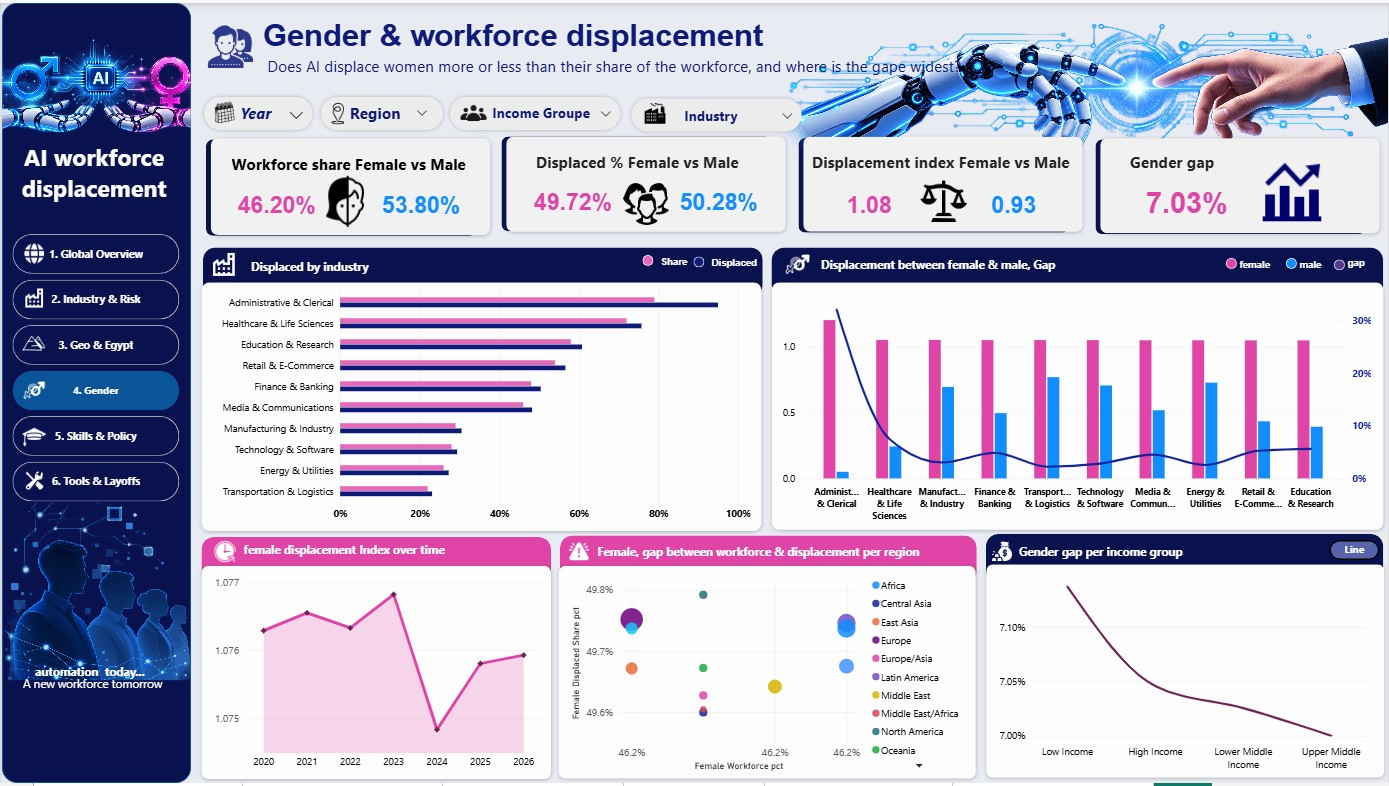

What the dashboard file says about the page in this screenshot:
{"tool":"powerbi","page":{"name":"4. Gender","canvas":[1920,1080],"ordinal":3},"visuals":[{"type":"shape","box":[282.6,188,374.6,133.3],"z":0},{"type":"shape","box":[692,185,374,131],"z":1000},{"type":"shape","box":[1102,186.1,374,131],"z":2000},{"type":"image","box":[1075.4,0,845.6,241.3],"z":3000},{"type":"shape","box":[1514,188.4,374,131],"z":4000},{"type":"shape","box":[0,0,261.7,1080],"z":5000},{"type":"textbox","box":[362.4,20.2,776.1,70.1],"z":6000},{"type":"shape","box":[274.4,124.4,161.1,56.7],"z":7000},{"type":"textbox","box":[367.7,73.5,981.2,46],"z":8000},{"type":"slicer","fields":{"Values":["year.year Hierarchy.year"]},"box":[295,132.5,133,44],"z":9000},{"type":"shape","box":[435.6,124.4,180,56.7],"z":10000},{"type":"image","box":[437.5,135,52.2,36.7],"z":11000},{"type":"slicer","fields":{"Values":["country.region"]},"box":[448.8,133.8,150,36.2],"z":12000},{"type":"shape","box":[615.6,124.4,246.7,56.7],"z":13000},{"type":"slicer","fields":{"Values":["country.income_group"]},"box":[656.7,135,196.7,36.7],"z":14000},{"type":"image","box":[627.5,133.8,51.1,36.7],"z":15000},{"type":"shape","box":[282,181.5,399.8,147.1],"z":16000},{"type":"textbox","box":[318.5,208,337,47.4],"z":17000},{"type":"image","box":[429.1,239.6,97.4,71.1],"z":18000},{"type":"shape","box":[691.7,179.2,399.8,144.8],"z":19000},{"type":"textbox","box":[739.7,205.3,310.6,34.2],"z":20000},{"type":"image","box":[860.8,242.2,65.8,68.4],"z":21000},{"type":"shape","box":[318.8,137.5,27.5,35],"z":22000},{"type":"cardVisual","fields":{"Data":["_Measures.Female Displaced Share pct","_Measures.Male Displaced Share pct"]},"box":[694,234.4,397.5,80.4],"z":23000},{"type":"image","box":[272.5,133.8,73.3,37.8],"z":24000},{"type":"textbox","box":[330,137.5,50,30],"z":25000},{"type":"shape","box":[680,137.5,25,35],"z":26000},{"type":"shape","box":[473.8,135,31.2,35],"z":27000},{"type":"textbox","box":[482.5,137.5,77.5,28.8],"z":28000},{"type":"textbox","box":[678.8,140,138.9,28.9],"z":29000},{"type":"shape","box":[1103,179.2,400,144.8],"z":30000},{"type":"textbox","box":[1121.5,205.3,400.1,29],"z":31000},{"type":"image","box":[1266.3,234.3,73.7,79],"z":32000},{"type":"cardVisual","fields":{"Data":["_Measures.Female Displacement Index","_Measures.Male Displacement Index"]},"box":[1105.7,236.9,392.3,84.2],"z":33000},{"type":"shape","box":[1514.3,181.5,400,144.8],"z":34000},{"type":"image","box":[1713.8,208,144.8,107.9],"z":35000},{"type":"cardVisual","fields":{"Data":["_Measures.Gender Gap pp"]},"box":[1543.2,234.7,195.2,83.1],"z":36000},{"type":"textbox","box":[1561.1,205.3,197.6,29.9],"z":37000},{"type":"shape","box":[278,338,775,68],"z":38000},{"type":"image","box":[284.9,342.4,45.7,40],"z":39000},{"type":"textbox","box":[344,354,348.6,31.4],"z":40000},{"type":"shape","box":[271,380,788,357.5],"z":41000},{"type":"shape","box":[1066,338,847,69],"z":42000},{"type":"image","box":[1079.3,343,43,37],"z":43000},{"type":"textbox","box":[1133.3,352,348.6,31.4],"z":44000},{"type":"shape","box":[1060,380,860,356],"z":45000},{"type":"textbox","box":[1862.9,348.6,48.3,26.7],"z":46000},{"type":"shape","box":[1844.3,354.3,15,15],"z":47000},{"type":"textbox","box":[1797.1,350,46.4,21.4],"z":48000},{"type":"shape","box":[1778.6,352.9,15,15],"z":49000},{"type":"shape","box":[277.1,738.7,484,67.1],"z":50000},{"type":"image","box":[291.1,744.4,36,32],"z":51000},{"type":"textbox","box":[334,746,294,30],"z":52000},{"type":"shape","box":[270,771.7,496.7,308.3],"z":53000},{"type":"shape","box":[772.1,737.6,577,66.6],"z":54000},{"type":"image","box":[781.7,743.3,36,32],"z":55000},{"type":"textbox","box":[823.9,747.4,498.3,24.7],"z":56000},{"type":"shape","box":[765.2,772.1,590.6,307.9],"z":57000},{"type":"shape","box":[1363,736,550,68],"z":58000},{"type":"image","box":[1366,742.9,36,32],"z":59000},{"type":"textbox","box":[1408.6,747.1,348.6,31.4],"z":60000},{"type":"shape","box":[1837.1,742.9,68.9,27.8],"z":61000},{"type":"textbox","box":[1858.6,745.7,42.9,27.1],"z":62000},{"type":"image","box":[0,0,261.5,207.2],"z":63000},{"type":"textbox","box":[0,190.7,255.1,117.2],"z":64000},{"type":"pageNavigator","box":[14.7,319.9,231.2,371.2],"z":65000},{"type":"image","box":[26.2,330.6,35,33],"z":66000},{"type":"image","box":[26.2,391.6,35,33],"z":67000},{"type":"image","box":[26.2,455.6,35,33],"z":68000},{"type":"image","box":[26.2,519.6,35,33],"z":69000},{"type":"image","box":[26.2,583.6,35,33],"z":70000},{"type":"image","box":[28.2,646.6,32,31],"z":71000},{"type":"image","box":[0,691.7,262,245.9],"z":72000},{"type":"shape","box":[866.1,126.8,246.7,56.7],"z":73000},{"type":"slicer","fields":{"Values":["sector.industry_sector"]},"box":[907.2,137.3,196.7,36.7],"z":74000},{"type":"image","box":[878,136.1,51.1,31],"z":75000},{"type":"shape","box":[930.5,139.8,25,35],"z":76000},{"type":"textbox","box":[944.4,142.5,138.9,28.9],"z":77000},{"type":"cardVisual","fields":{"Data":["_Measures.Female Workforce pct","_Measures.Male Workforce pct"]},"box":[284.3,236.9,392.3,84.2],"z":78000},{"type":"shape","box":[1355.7,771.4,564.3,308.6],"z":79000},{"type":"image","box":[278,13.8,75.8,91.9],"z":80000},{"type":"textbox","box":[46,914.6,167.7,25.3],"z":81000},{"type":"textbox","box":[29.9,930.6,203.3,33.3],"z":82000},{"type":"clusteredBarChart","fields":{"Category":["sector.industry_sector"],"Y":["_Measures.Female Workforce pct","_Measures.Female Displaced Share pct"]},"box":[276.7,373.3,776.7,363.3],"z":83000},{"type":"textbox","box":[981.7,348.3,78.3,25],"z":84000},{"type":"shape","box":[958.3,351.7,15,15],"z":85000},{"type":"textbox","box":[911,347.7,46.4,21.4],"z":86000},{"type":"shape","box":[887.7,349.5,15,15],"z":87000},{"type":"lineClusteredColumnComboChart","fields":{"Category":["sector.industry_sector"],"Y":["_Measures.Female Displacement Index","_Measures.Male Displaced Share pct"],"Y2":["_Measures.Gender Gap pp"]},"box":[1061.6,379.1,850.2,356.2],"z":88000},{"type":"textbox","box":[1714.3,350,48.3,26.7],"z":89000},{"type":"shape","box":[1694.3,352.9,15,15],"z":90000},{"type":"lineChart","fields":{"Category":["year.year"],"Y":["_Measures.Female Displacement Index"]},"box":[278,776,484,304],"z":91000},{"type":"scatterChart","fields":{"Category":["country.region"],"Series":["country.region"],"Size":["CountNonNull(country.country)"],"X":["_Measures.Female Workforce pct"],"Y":["_Measures.Female Displaced Share pct"]},"box":[772.1,779.5,577.2,301],"z":92000},{"type":"lineChart","fields":{"Category":["country.income_group"],"Y":["_Measures.Gender Gap pp"]},"box":[1364.3,780,548.6,300],"z":93000}]}

Visuals, with their boxes in screenshot pixels (x1, y1, x2, y2), scaled from the page's 1920x1080 canvas onto the 1389x786 screenshot:
shape: box=[204, 137, 475, 234]
shape: box=[501, 135, 771, 230]
shape: box=[797, 135, 1068, 231]
image: box=[778, 0, 1388, 176]
shape: box=[1095, 137, 1366, 232]
shape: box=[0, 0, 189, 785]
textbox: box=[262, 15, 824, 66]
shape: box=[199, 91, 315, 132]
textbox: box=[266, 53, 976, 87]
slicer - year.year Hierarchy.year: box=[213, 96, 310, 128]
shape: box=[315, 91, 445, 132]
image: box=[317, 98, 354, 125]
slicer - country.region: box=[325, 97, 433, 124]
shape: box=[445, 91, 624, 132]
slicer - country.income_group: box=[475, 98, 617, 125]
image: box=[454, 97, 491, 124]
shape: box=[204, 132, 493, 239]
textbox: box=[230, 151, 474, 186]
image: box=[310, 174, 381, 226]
shape: box=[500, 130, 790, 236]
textbox: box=[535, 149, 760, 174]
image: box=[623, 176, 670, 226]
shape: box=[231, 100, 251, 126]
cardVisual - _Measures.Female Displaced Share pct x _Measures.Male Displaced Share pct: box=[502, 171, 790, 229]
image: box=[197, 97, 250, 125]
textbox: box=[239, 100, 275, 122]
shape: box=[492, 100, 510, 126]
shape: box=[343, 98, 365, 124]
textbox: box=[349, 100, 405, 121]
textbox: box=[491, 102, 592, 123]
shape: box=[798, 130, 1087, 236]
textbox: box=[811, 149, 1101, 171]
image: box=[916, 171, 969, 228]
cardVisual - _Measures.Female Displacement Index x _Measures.Male Displacement Index: box=[800, 172, 1084, 234]
shape: box=[1096, 132, 1385, 237]
image: box=[1240, 151, 1345, 230]
cardVisual - _Measures.Gender Gap pp: box=[1116, 171, 1258, 231]
textbox: box=[1129, 149, 1272, 171]
shape: box=[201, 246, 762, 295]
image: box=[206, 249, 239, 278]
textbox: box=[249, 258, 501, 280]
shape: box=[196, 277, 766, 537]
shape: box=[771, 246, 1384, 296]
image: box=[781, 250, 812, 277]
textbox: box=[820, 256, 1072, 279]
shape: box=[767, 277, 1388, 536]
textbox: box=[1348, 254, 1383, 273]
shape: box=[1334, 258, 1345, 269]
textbox: box=[1300, 255, 1334, 270]
shape: box=[1287, 257, 1298, 268]
shape: box=[200, 538, 551, 586]
image: box=[211, 542, 237, 565]
textbox: box=[242, 543, 454, 565]
shape: box=[195, 562, 555, 785]
shape: box=[559, 537, 976, 585]
image: box=[566, 541, 592, 564]
textbox: box=[596, 544, 957, 562]
shape: box=[554, 562, 981, 785]
shape: box=[986, 536, 1384, 585]
image: box=[988, 541, 1014, 564]
textbox: box=[1019, 544, 1271, 567]
shape: box=[1329, 541, 1379, 561]
textbox: box=[1345, 543, 1376, 562]
image: box=[0, 0, 189, 151]
textbox: box=[0, 139, 185, 224]
pageNavigator: box=[11, 233, 178, 503]
image: box=[19, 241, 44, 265]
image: box=[19, 285, 44, 309]
image: box=[19, 332, 44, 356]
image: box=[19, 378, 44, 402]
image: box=[19, 425, 44, 449]
image: box=[20, 471, 44, 493]
image: box=[0, 503, 190, 682]
shape: box=[627, 92, 805, 134]
slicer - sector.industry_sector: box=[656, 100, 799, 127]
image: box=[635, 99, 672, 122]
shape: box=[673, 102, 691, 127]
textbox: box=[683, 104, 784, 125]
cardVisual - _Measures.Female Workforce pct x _Measures.Male Workforce pct: box=[206, 172, 489, 234]
shape: box=[981, 561, 1388, 785]
image: box=[201, 10, 256, 77]
textbox: box=[33, 666, 155, 684]
textbox: box=[22, 677, 169, 702]
clusteredBarChart - sector.industry_sector x _Measures.Female Workforce pct: box=[200, 272, 762, 536]
textbox: box=[710, 253, 767, 272]
shape: box=[693, 256, 704, 267]
textbox: box=[659, 253, 693, 269]
shape: box=[642, 254, 653, 265]
lineClusteredColumnComboChart - sector.industry_sector x _Measures.Female Displacement Index: box=[768, 276, 1383, 535]
textbox: box=[1240, 255, 1275, 274]
shape: box=[1226, 257, 1237, 268]
lineChart - year.year x _Measures.Female Displacement Index: box=[201, 565, 551, 785]
scatterChart - country.region x country.region: box=[559, 567, 976, 785]
lineChart - country.income_group x _Measures.Gender Gap pp: box=[987, 568, 1384, 785]
